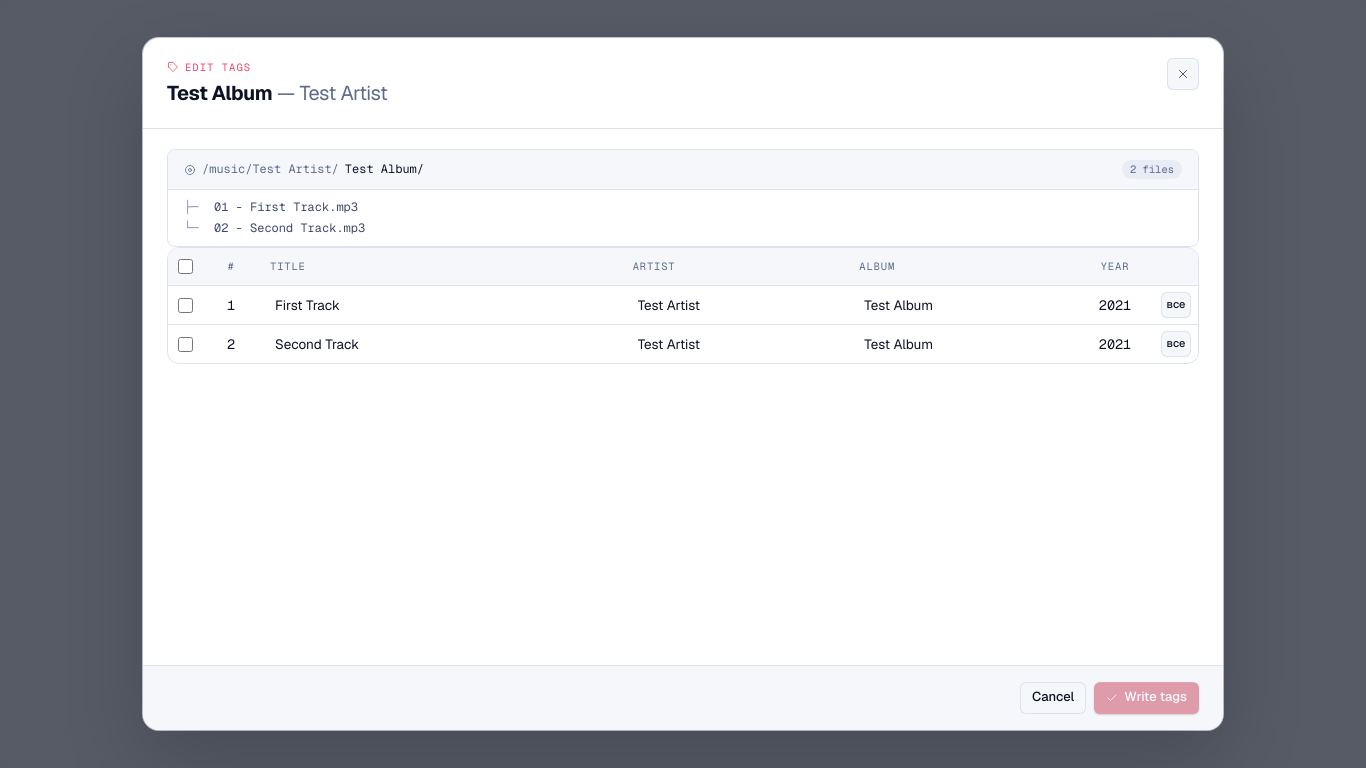
Test case: TagEditorModal › refreshes the album-grid row after a per-track free-tag save
// Open the per-track free-tag editor for the first track.
Click the 1st button "все" at (1176, 305), box [1160,292,1191,318]
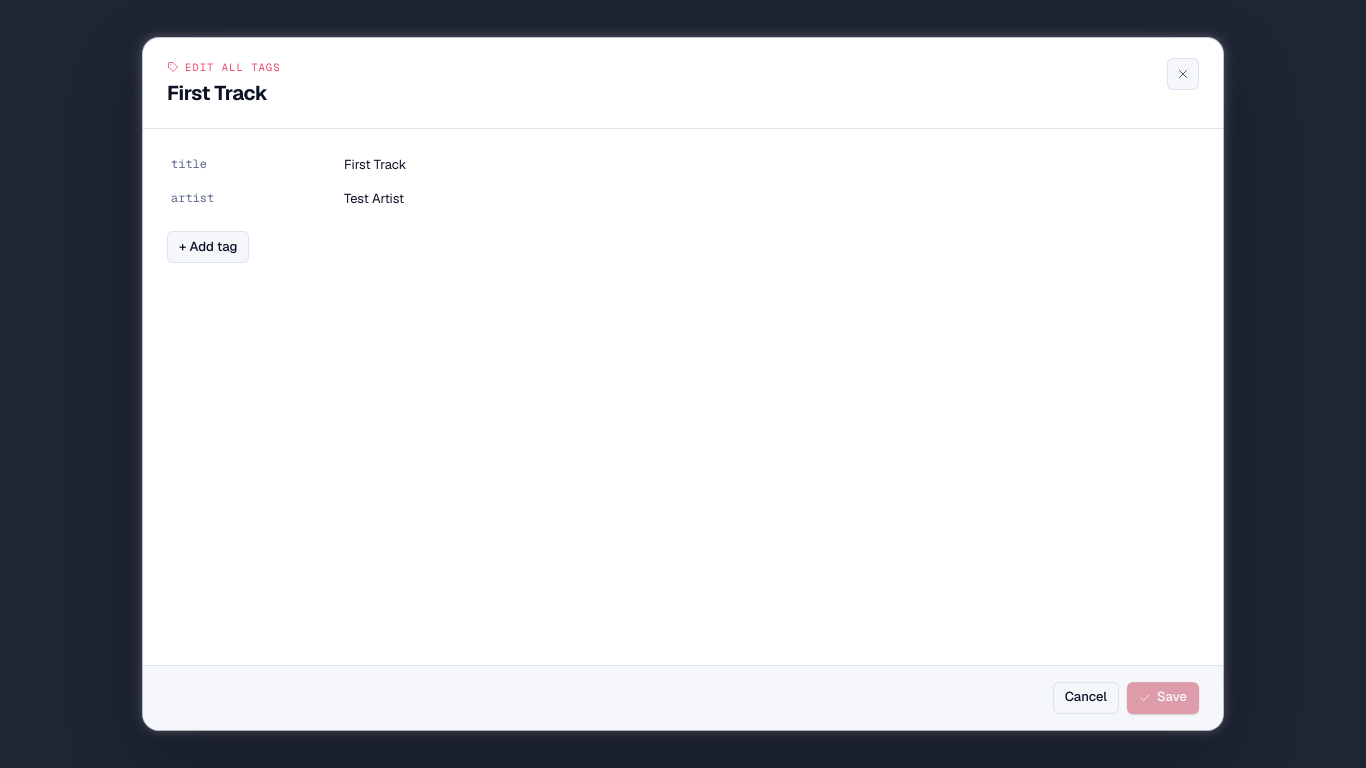
// Edit the title inside the per-track editor (the later input) and save.
Replace the text in the 1st field showing "First Track" with "Refreshed Title" at (753, 165), box [335,151,1171,179]
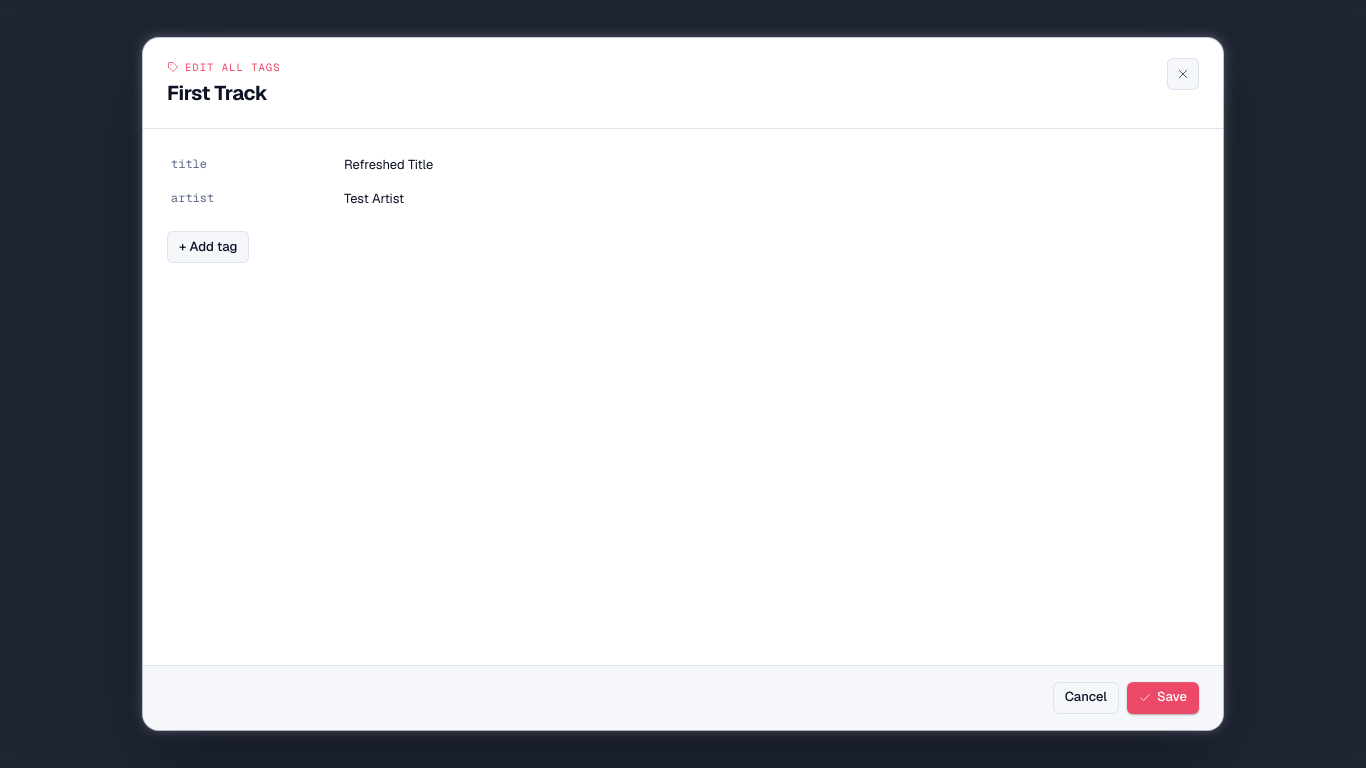
Click the button "Save" at (1163, 698), box [1127,682,1199,714]
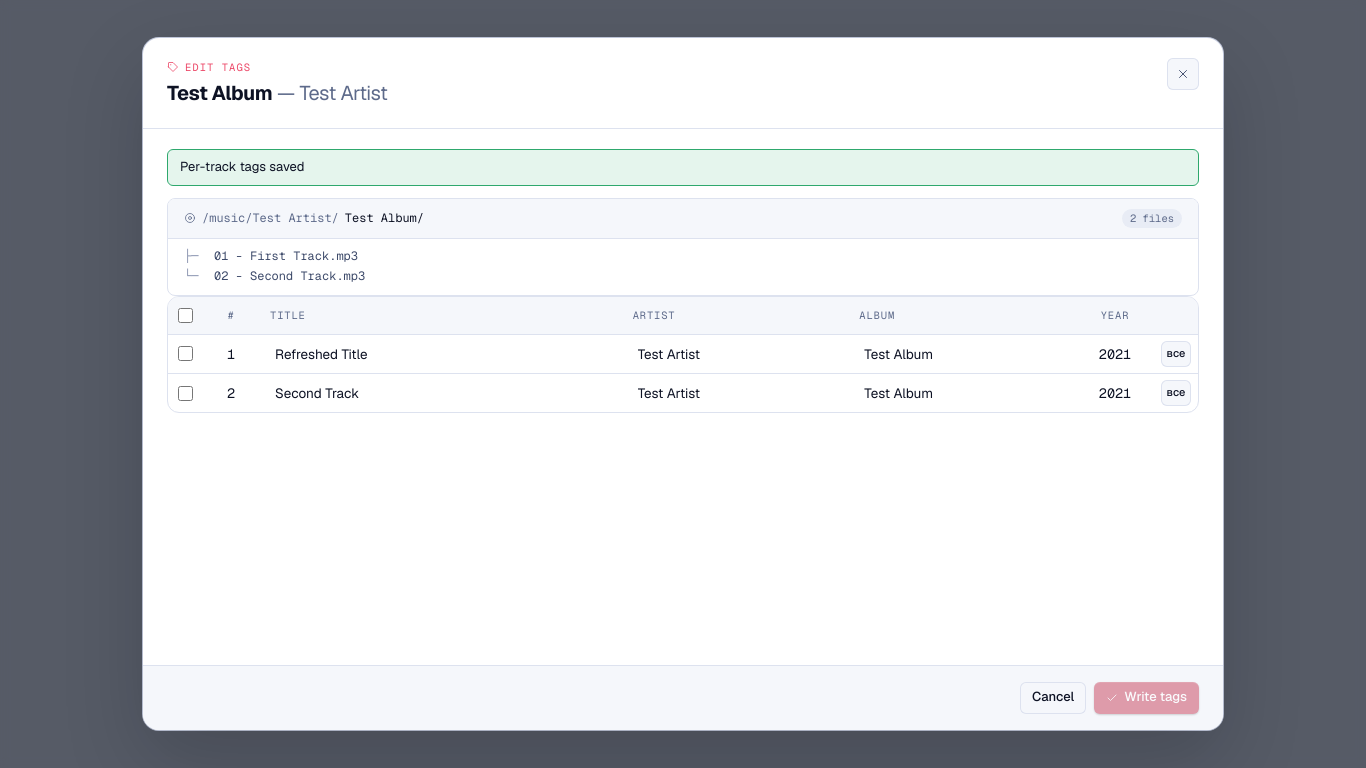
expect the 2nd field showing "Refreshed Title" is shown: met, box [266,339,617,369]
